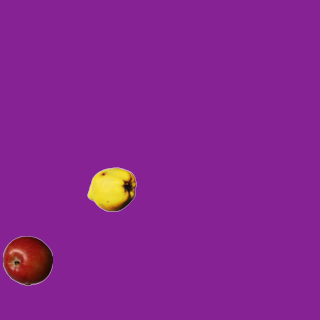Apple Braeburn: (2, 235, 52, 285)
Quince: (86, 164, 136, 214)
